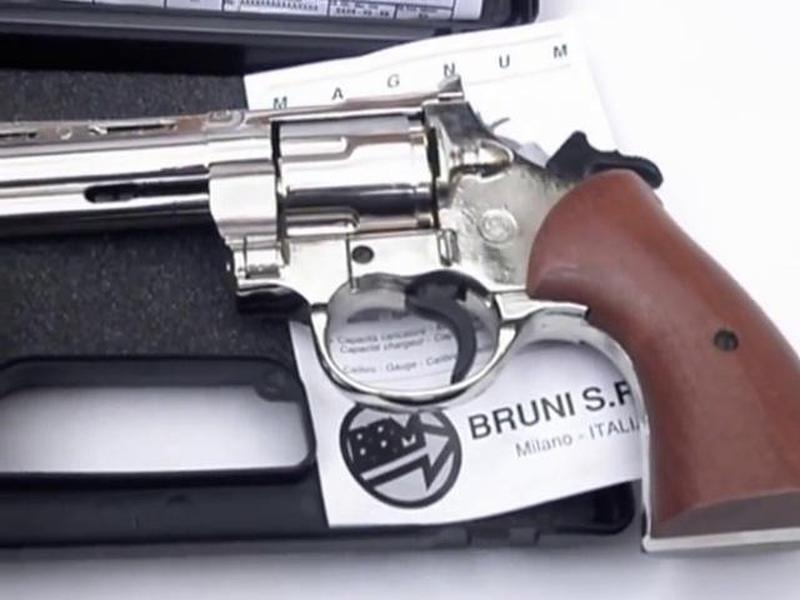Revolver: (22, 85, 763, 460)
